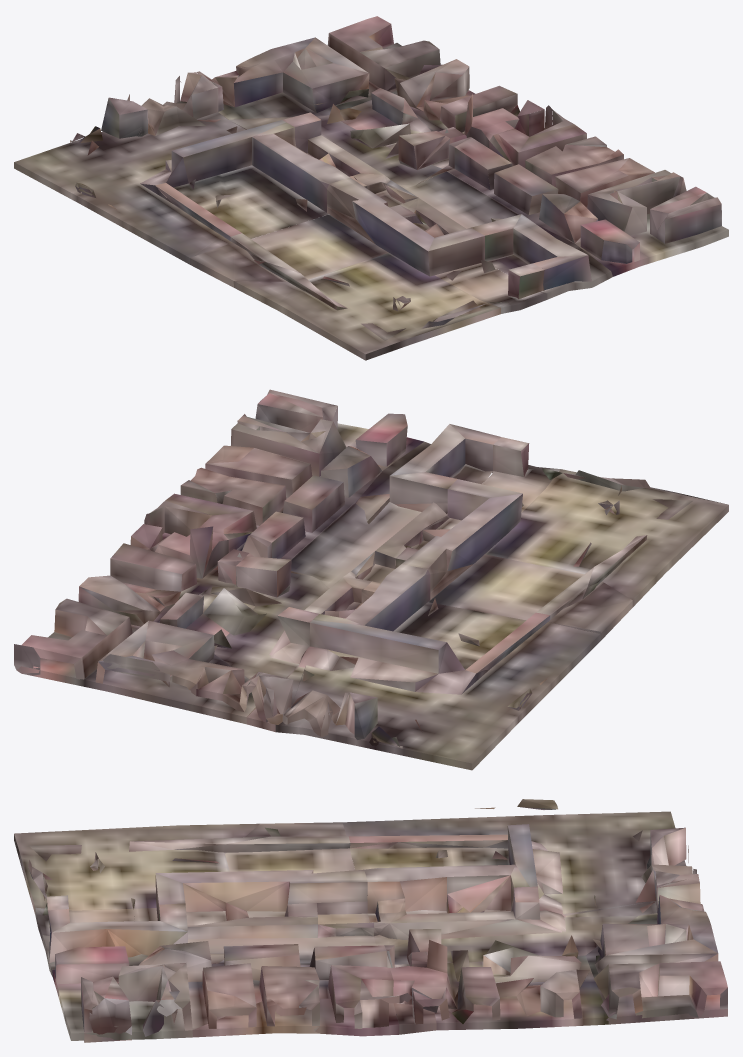
3 views of the same model, one above another, from view 1: azimuth 30°, elevation 25°; view 2: azimuth 150°, elevation 25°; view 3: azimuth 270°, elevation 25° (orthographic). The views are drawn at different scales.
Parts seen in each view (by area): view 1: Mesh_0; view 2: Mesh_0; view 3: Mesh_0.
Part boxes in pixels (box(x1,y1,x2,y2)): Mesh_0: box(14, 16, 728, 360); Mesh_0: box(14, 389, 728, 770); Mesh_0: box(14, 799, 727, 1042).
Size of the model in its own units: 532 by 84.32 by 660.
2 materials, 2 textured.
